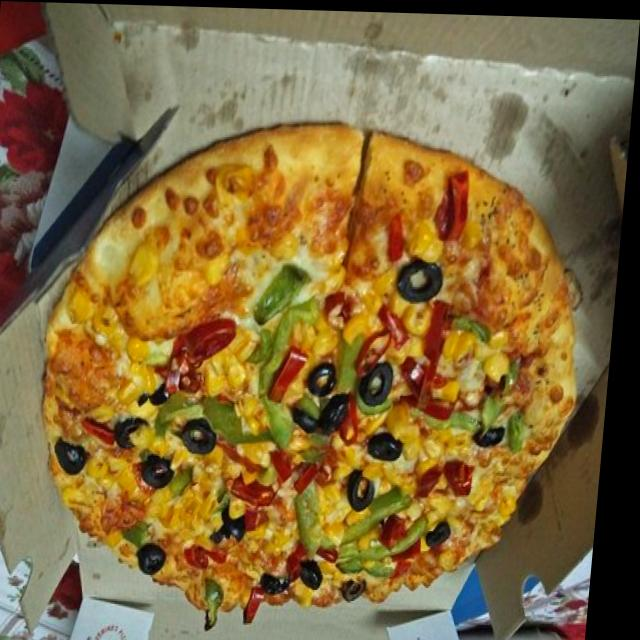pizza: (32, 116, 600, 614)
